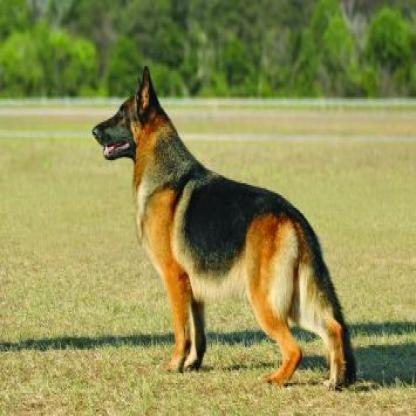german shepherd: (90, 69, 360, 388)
